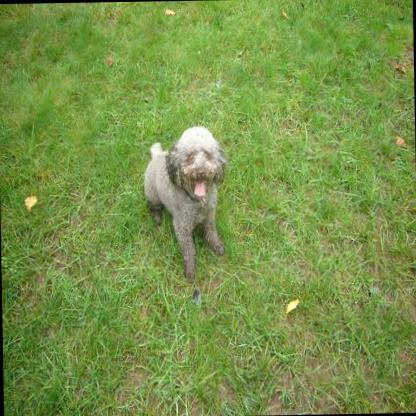miniature_poodle: (140, 123, 227, 281)
